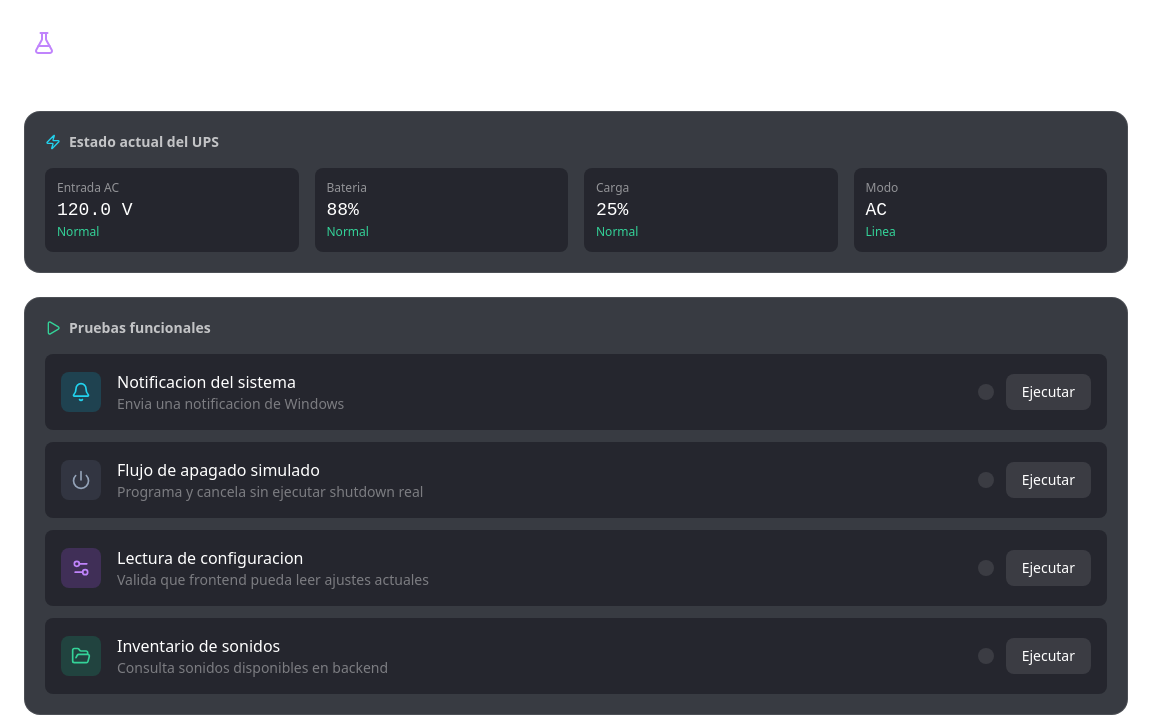
Scenario: TestView › runs simulated shutdown flow through backend IPC
The image size is (1152, 720).
Click the button "Ejecutar" in the row of "Flujo de apagado simulado" at (1048, 480), box [1006, 462, 1091, 498]
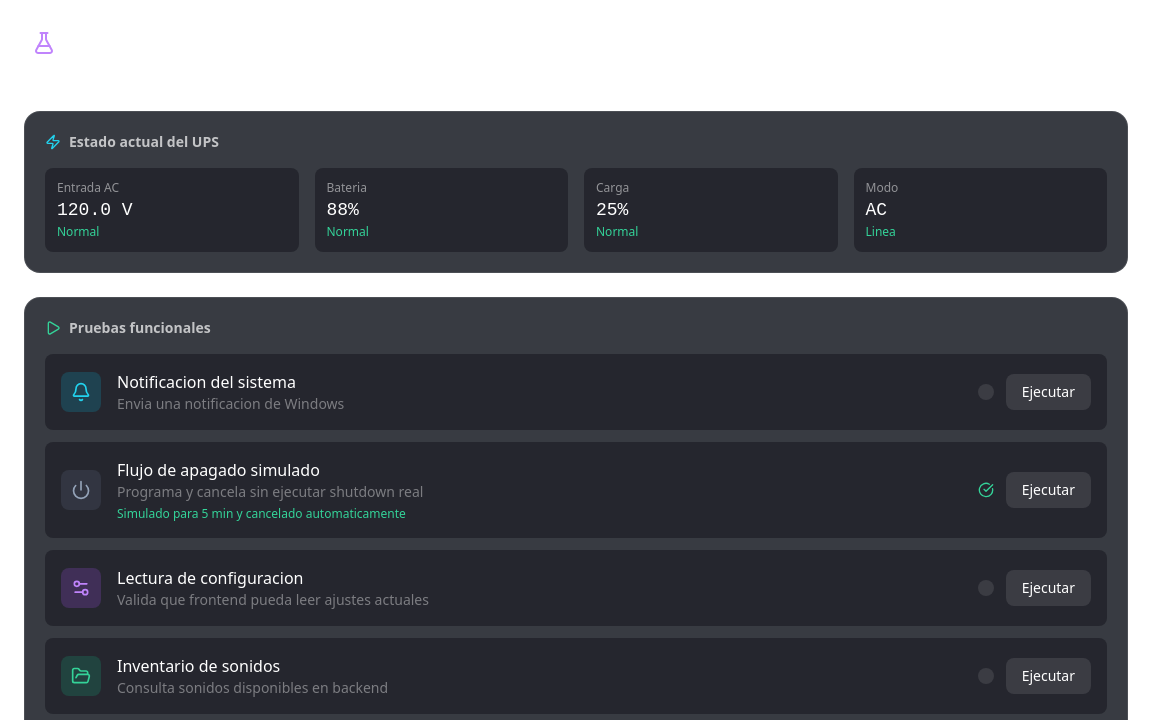
Check: the text "Simulado para 5 min y cancelado automaticamente" is shown, box [117, 506, 424, 522]
